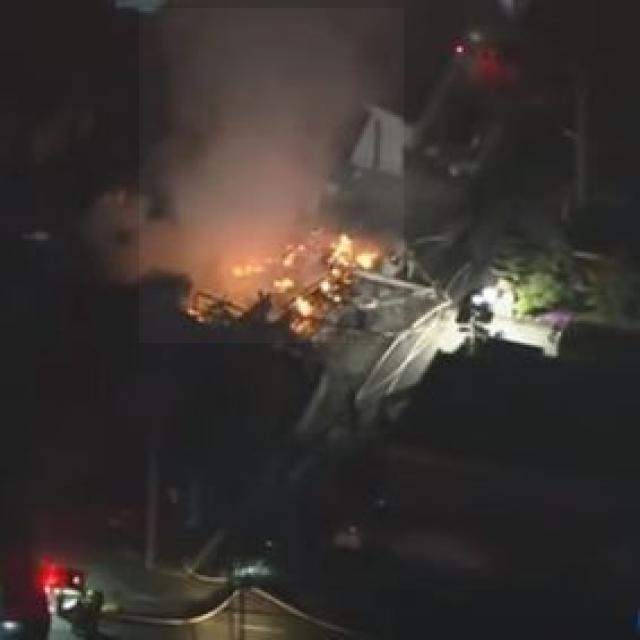Smoke: (139, 8, 404, 343)
